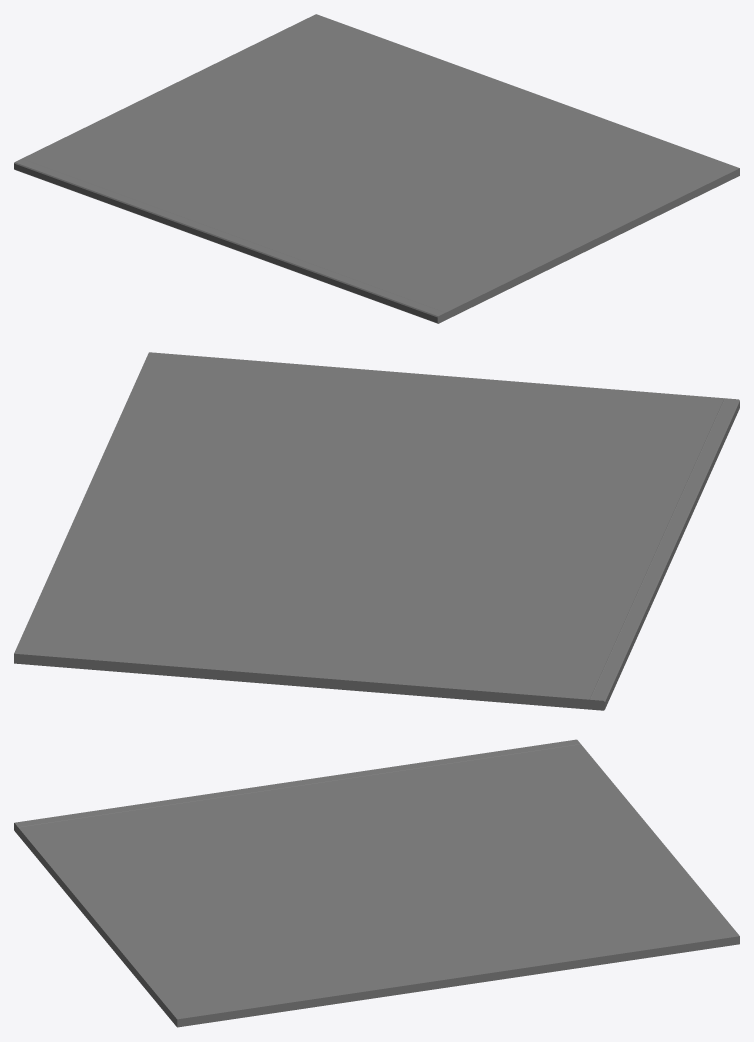
Rendered from magazine.glb.
3 views of the same model, one above another, from view 1: azimuth 30°, elevation 25°; view 2: azimuth 150°, elevation 25°; view 3: azimuth 270°, elevation 25° (orthographic). The views are drawn at different scales.
Parts seen in each view (by area): view 1: Magazine; view 2: Magazine; view 3: Magazine.
Boxes of the visible parts, bbox=[...] form: Magazine: bbox=[14, 14, 739, 323]; Magazine: bbox=[14, 352, 739, 710]; Magazine: bbox=[14, 739, 739, 1027].
Bounding box in the file's own units: 0.317 × 0.00436 × 0.347.
Materials: 1 (1 with a texture image).
